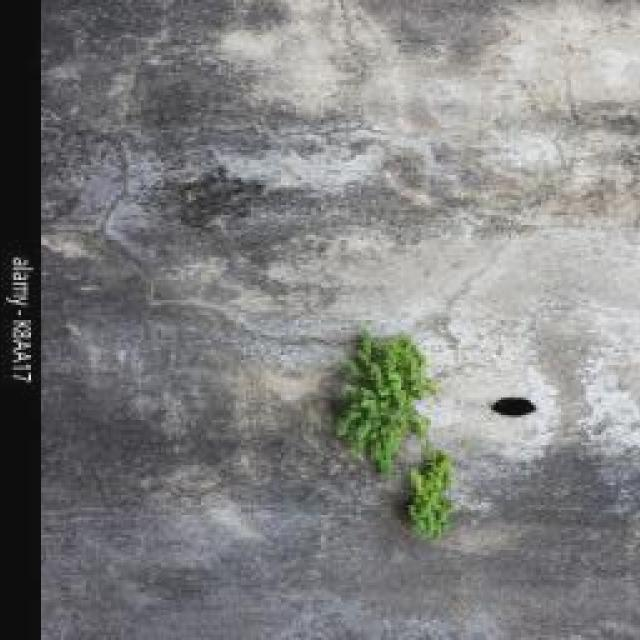Crack: (41, 1, 638, 637)
